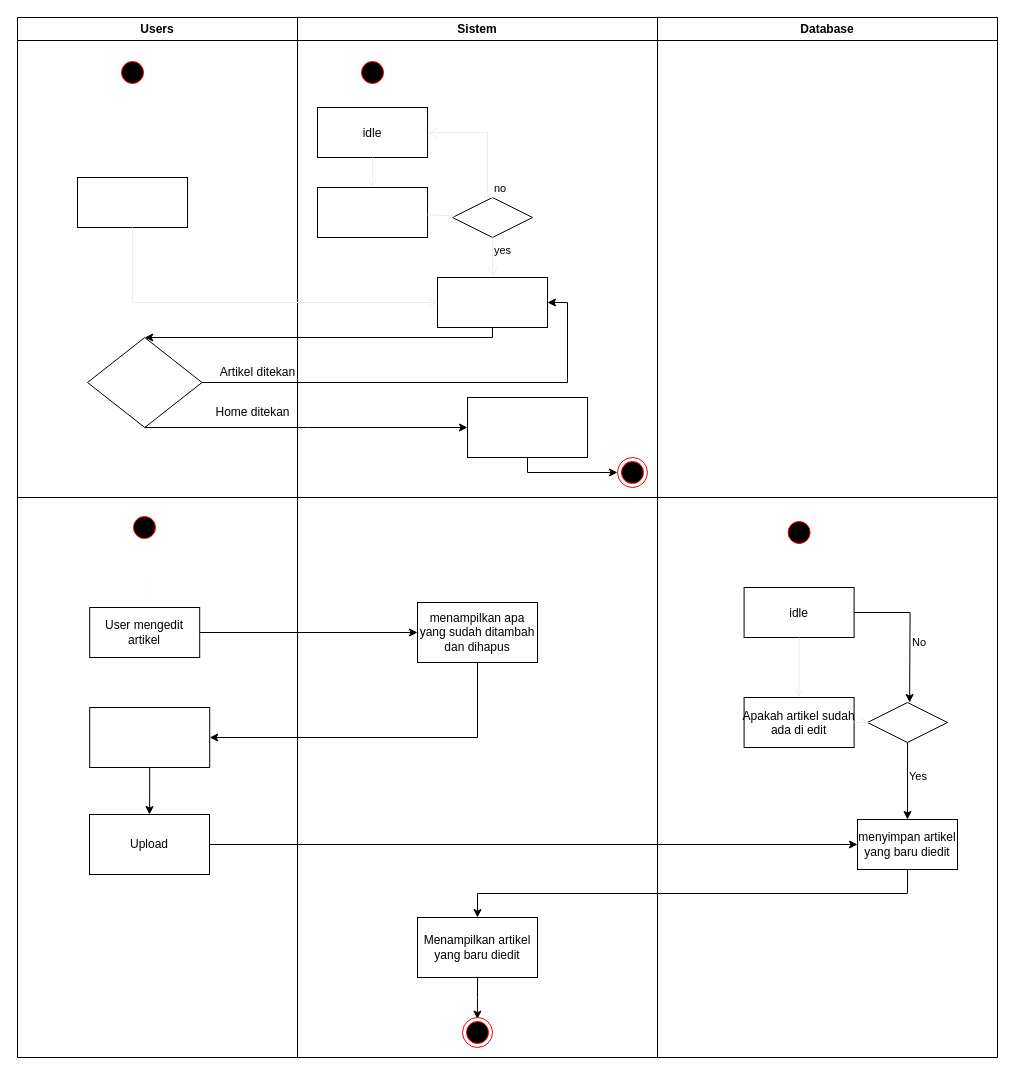
This 1016x1075 diagram has some shape labels left out. The centre of each missing label's shape, as x and y in pixels:
"Apakah user sudah memasukin halaman" goes at (372,212).
"Menunjukan artikel" goes at (527,427).
"Menunjukan content landing page" goes at (492,302).
"User memasuki website" goes at (132,202).
"user memilih page untuk dilihat" goes at (144,382).
"user mengonfirmasi editan" goes at (149,737).
